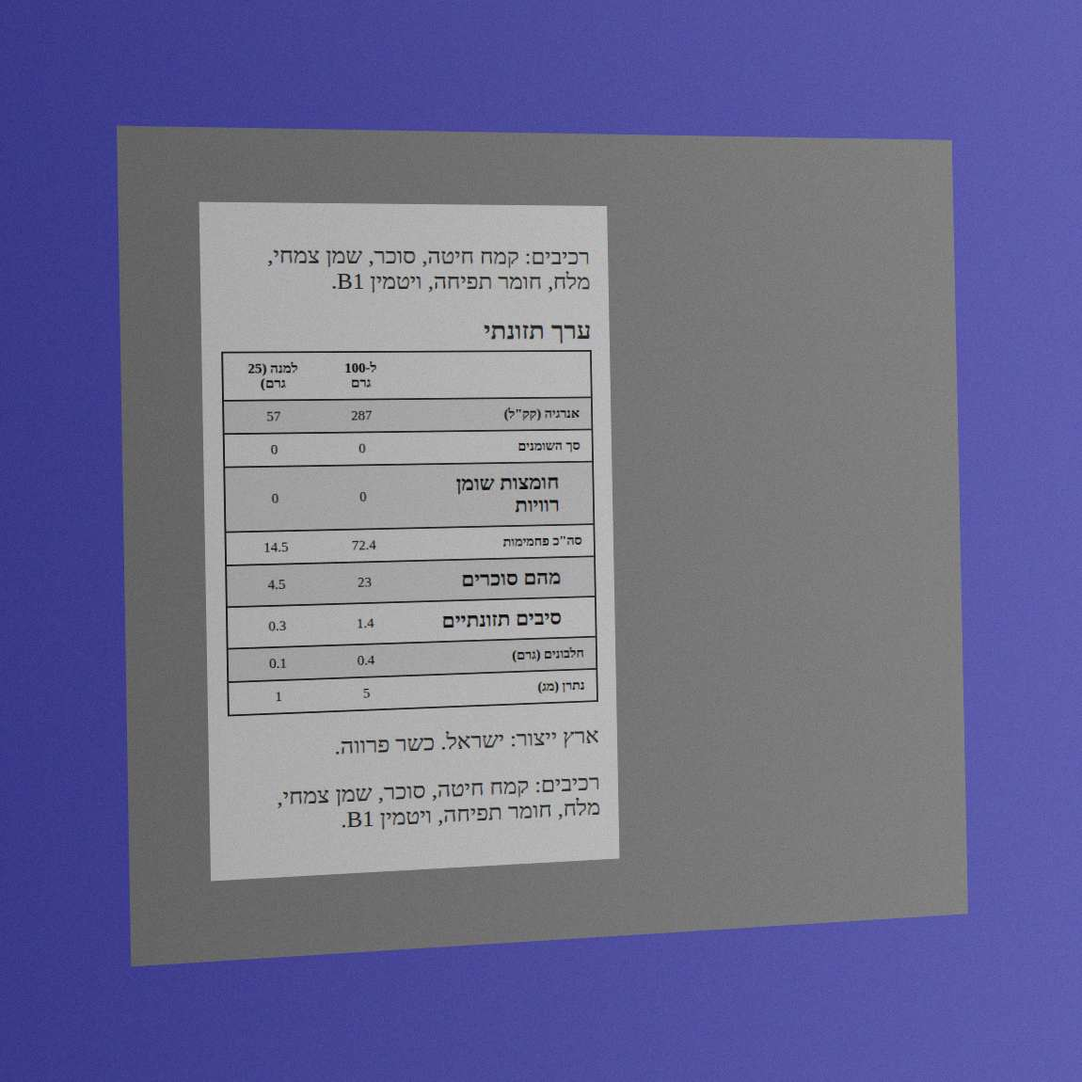carbs: (350, 536, 378, 554)
energy: (349, 407, 374, 424)
fat: (357, 440, 367, 457)
protein: (355, 651, 376, 669)
